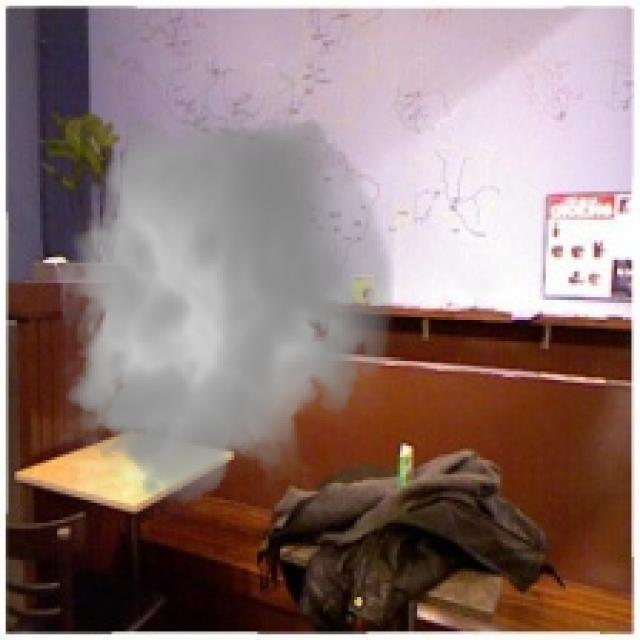Smoke: (46, 97, 406, 520)
